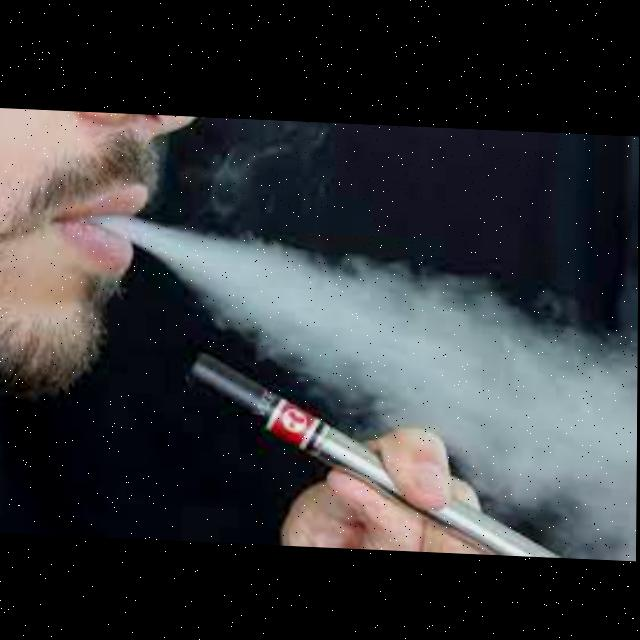vape: (181, 347, 568, 551)
